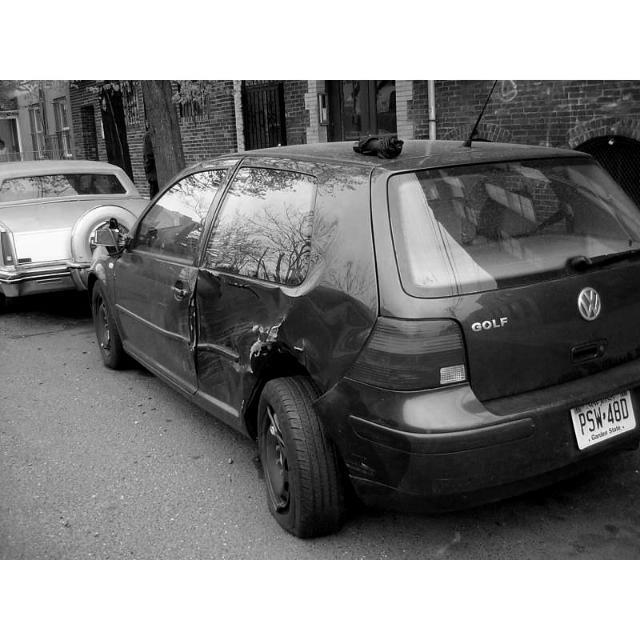doorouter-dent: (206, 272, 303, 400), (116, 248, 200, 366)
